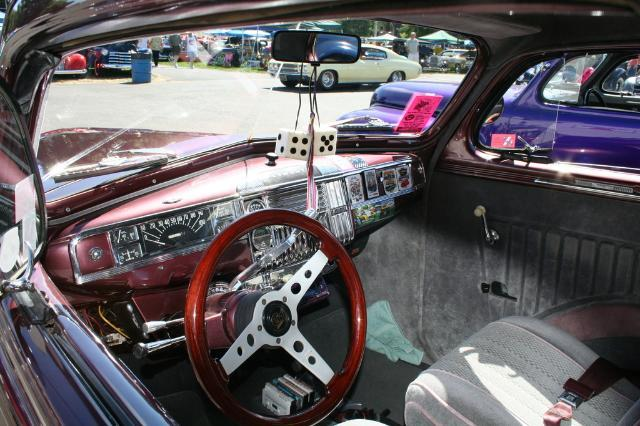Seatbelt: (560, 377, 630, 389)
